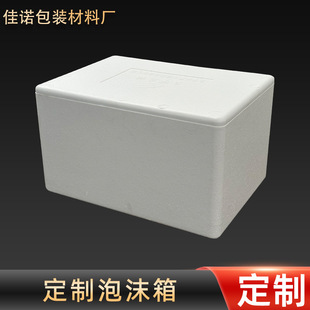泡沫箱: (36, 56, 274, 237)
